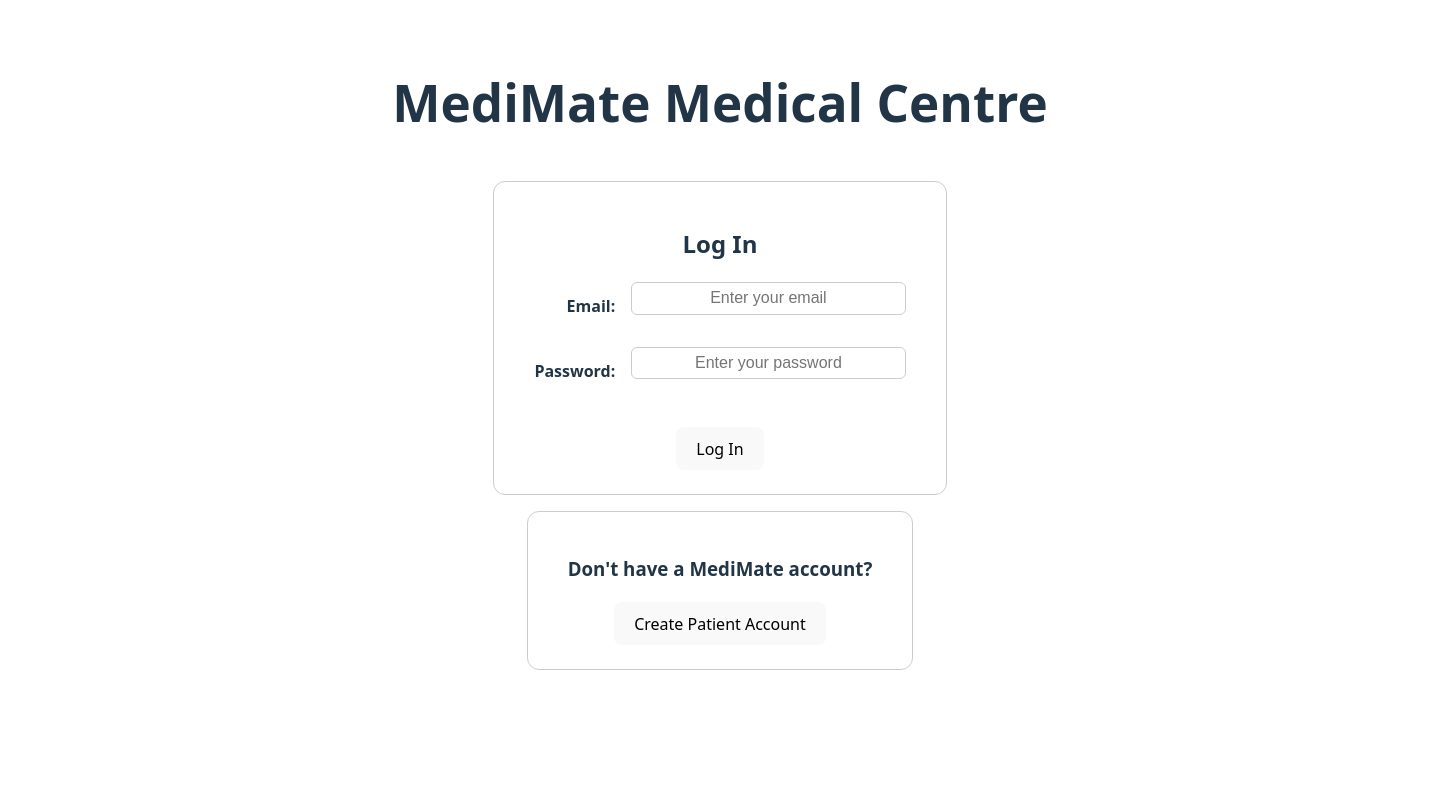
Test: Test /login page › Successful login navigates to /dashboard
Expected: the form with test id "app-login-form" is shown, [534,282,906,470]
Type "patient@example.com" into the field with test id "app-login-form-input-email" at {"x": 768, "y": 298}, box [631,282,906,314]
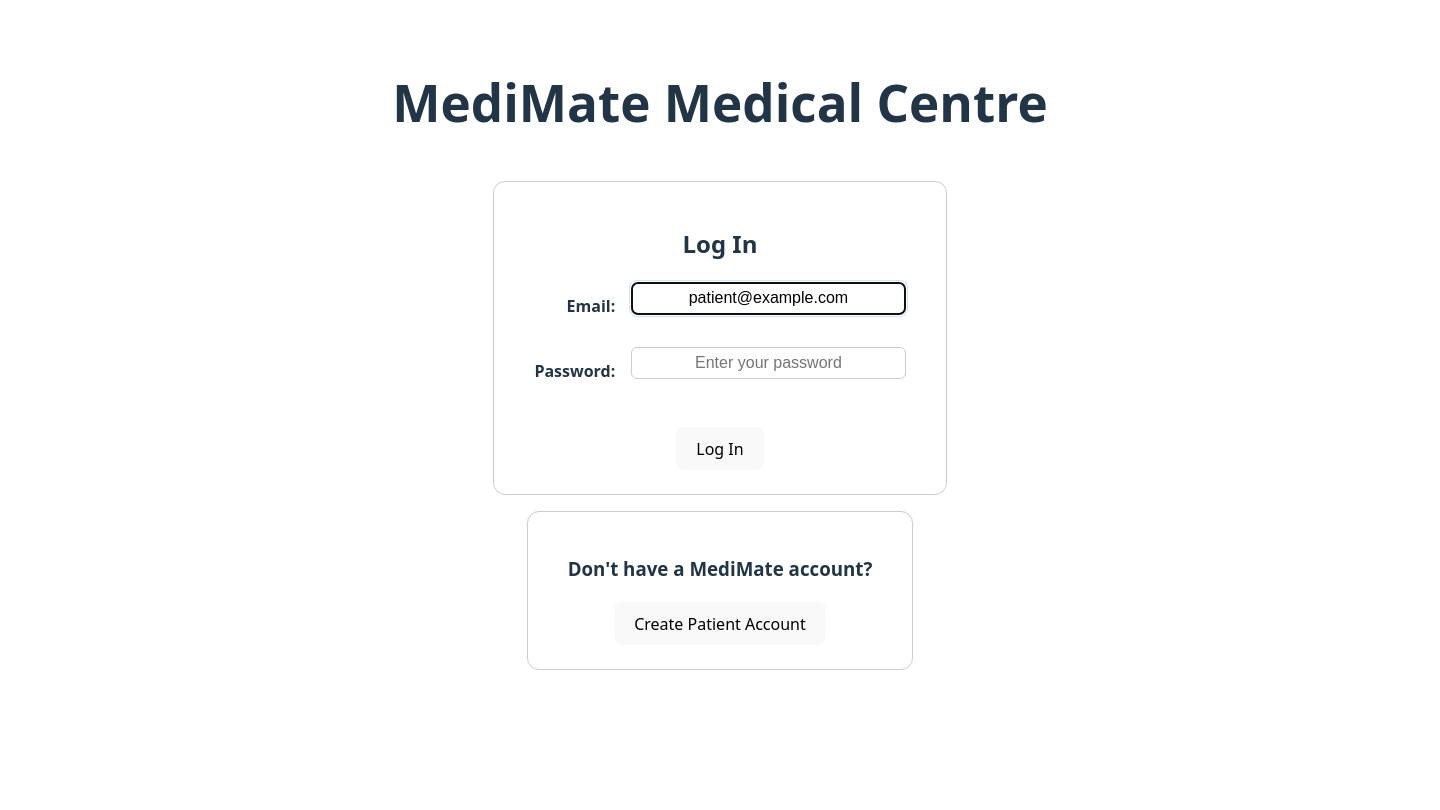
Type "123456" into the password field with test id "app-login-form-input-password" at {"x": 768, "y": 363}, box [631,346,906,379]
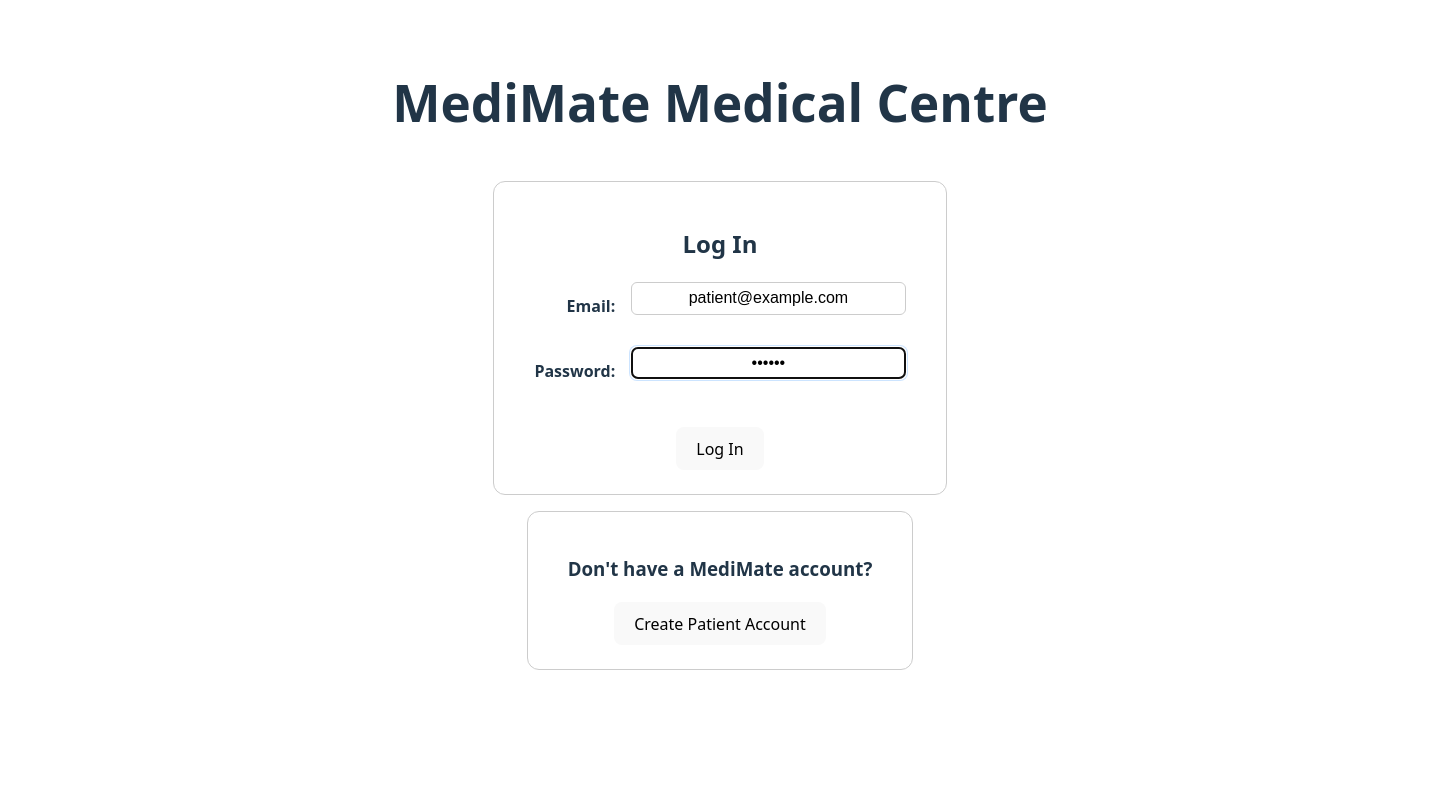
Click the button with test id "app-login-form-button-submit" at {"x": 720, "y": 449}, box [676,427,764,470]
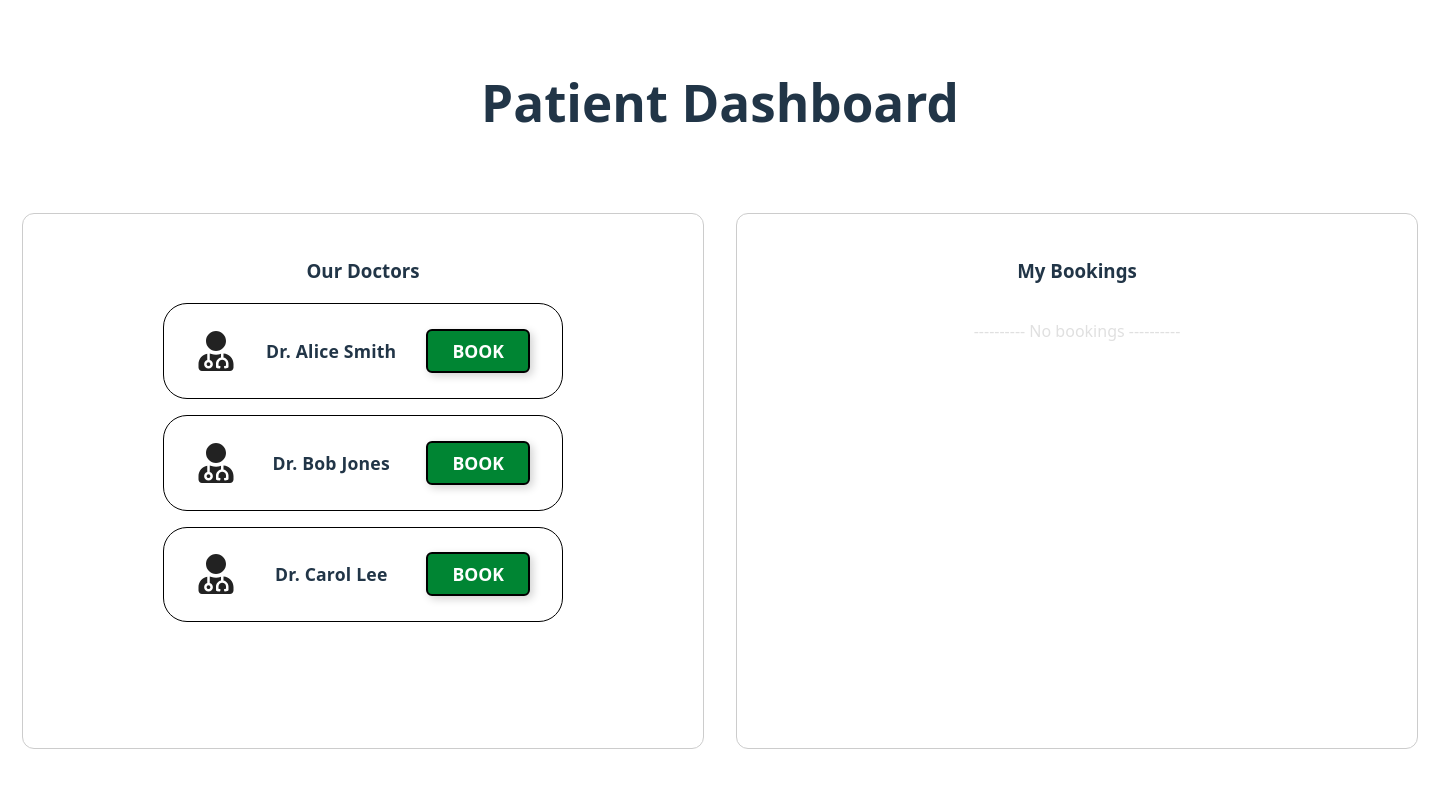
Result: the heading "Patient Dashboard" is shown at [481,74,959,131]
